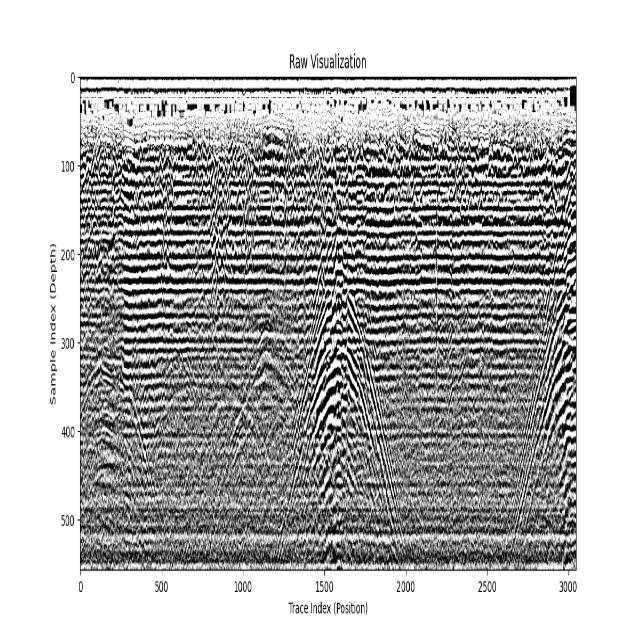anomaly: (310, 249, 401, 546), (510, 188, 576, 566), (161, 350, 303, 517), (82, 365, 153, 539)
